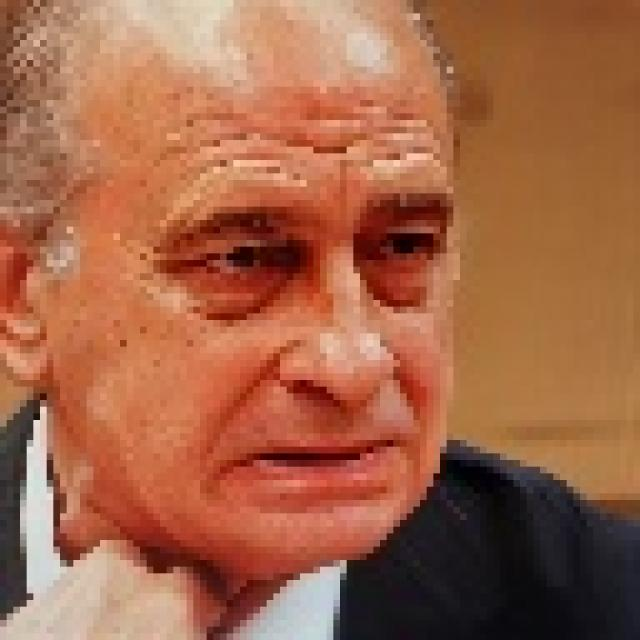sad: (98, 50, 470, 580)
